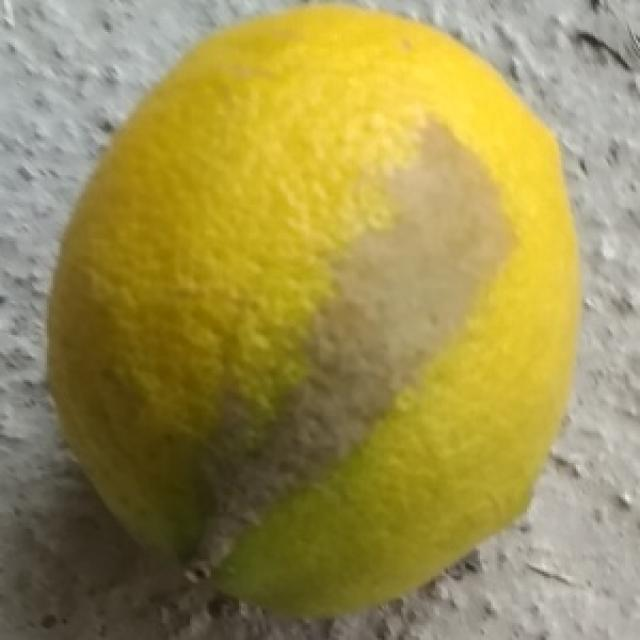overripe: (37, 11, 587, 624)
